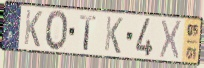4: (134, 17, 154, 59)
K: (23, 8, 44, 49), (103, 15, 124, 56)
O: (45, 9, 70, 53)
T: (79, 14, 98, 52)
X: (158, 18, 183, 62)
